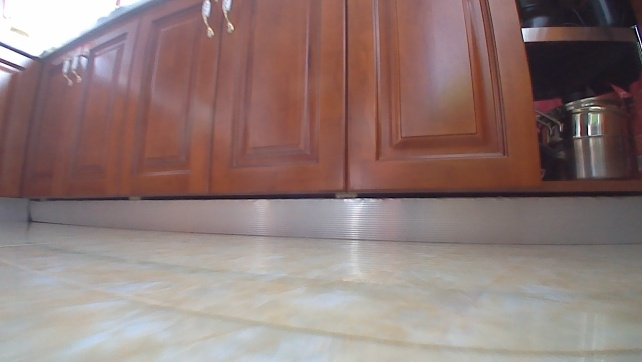cupboard: (0, 0, 641, 249)
